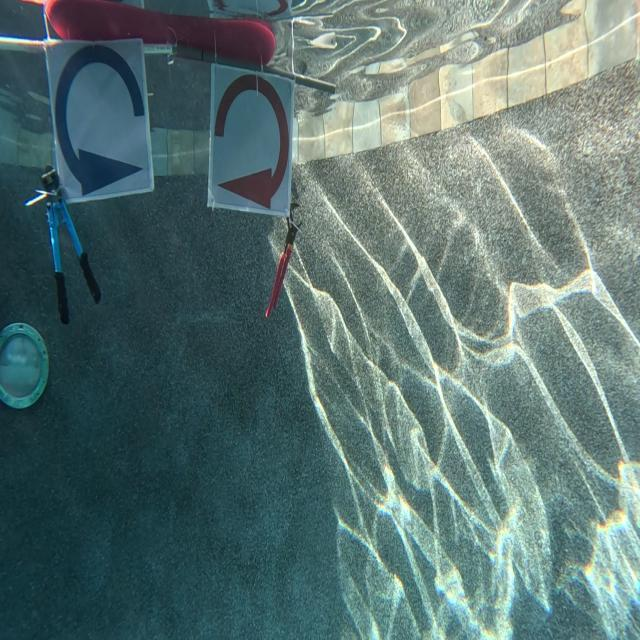blue_side: (56, 40, 144, 196)
red_side: (208, 64, 292, 214)
